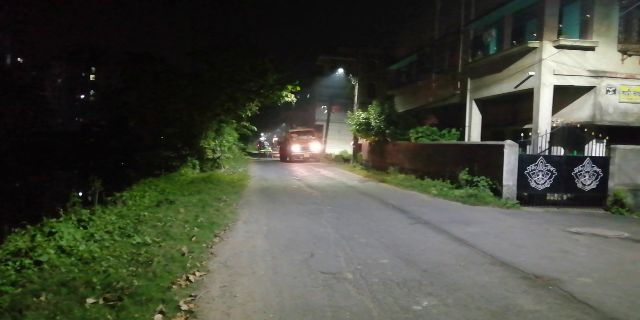Truck: (283, 127, 325, 164)
